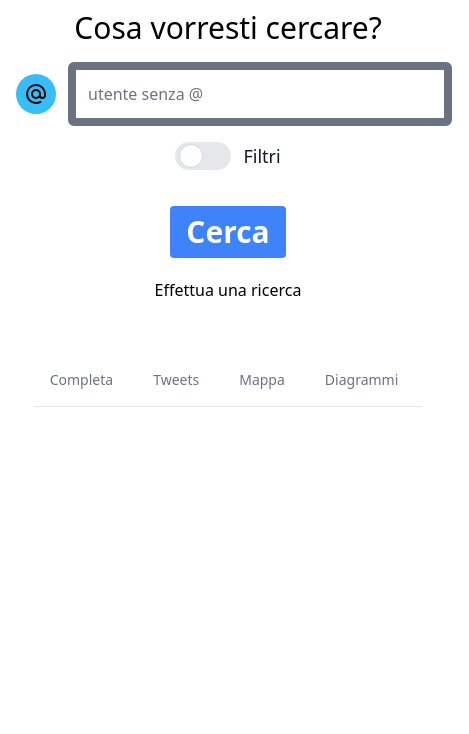
SearchForm component › should allow to toggle no interval for user tweets search
The image size is (469, 734).
Click the checkbox with test id "^filtersToggle$".
click(228, 156)  # box top-left (175, 142), bottom-right (281, 170)
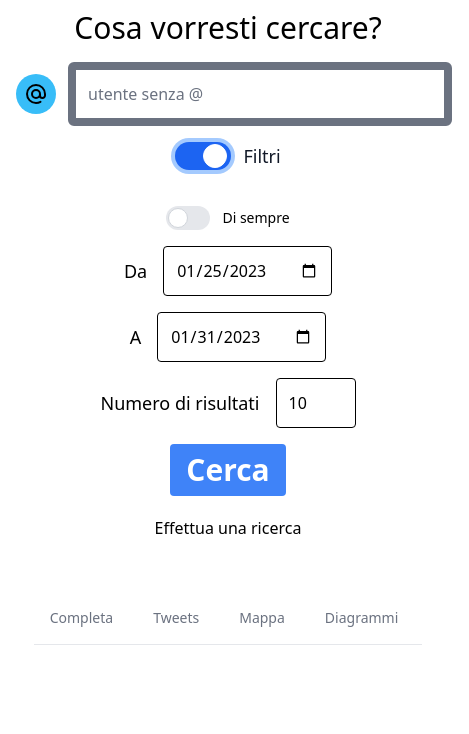
Result: the checkbox with test id "^ofEverDate$" is enabled at top-left (166, 206), bottom-right (290, 230)
Type "giorgiameloni" into the field with placeholder "utente senza @".
click(260, 94); type("giorgiameloni")  # box top-left (68, 62), bottom-right (452, 126)
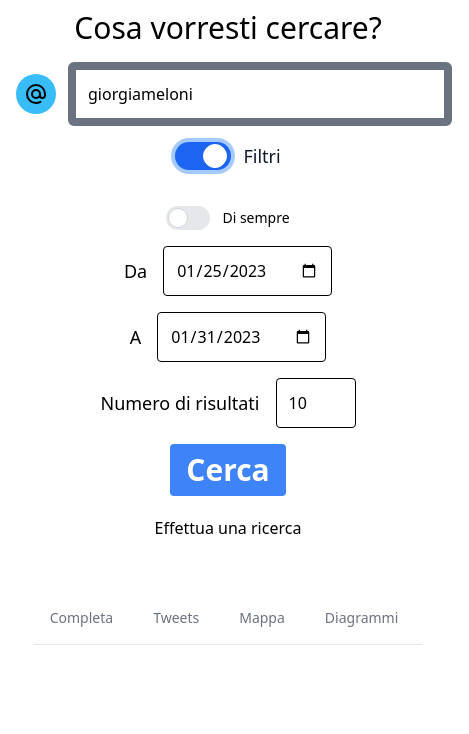
Click the button "Cerca".
click(228, 470)  # box top-left (170, 444), bottom-right (286, 496)
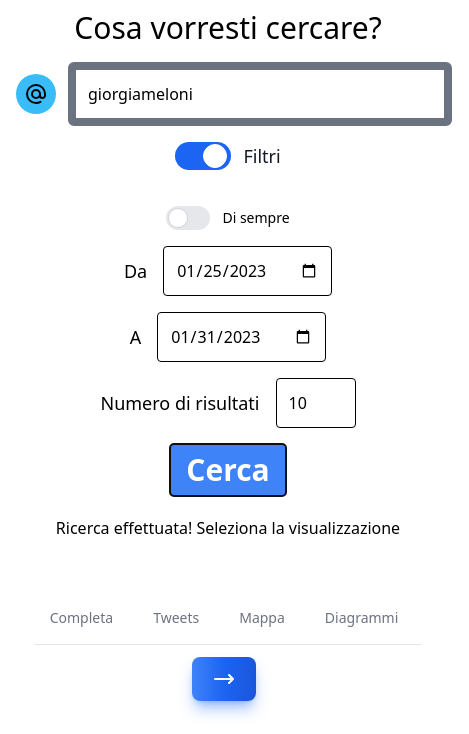
Result: the text "Ricerca effettuata! Seleziona la visualizzazione" is shown at top-left (56, 517), bottom-right (400, 539)
